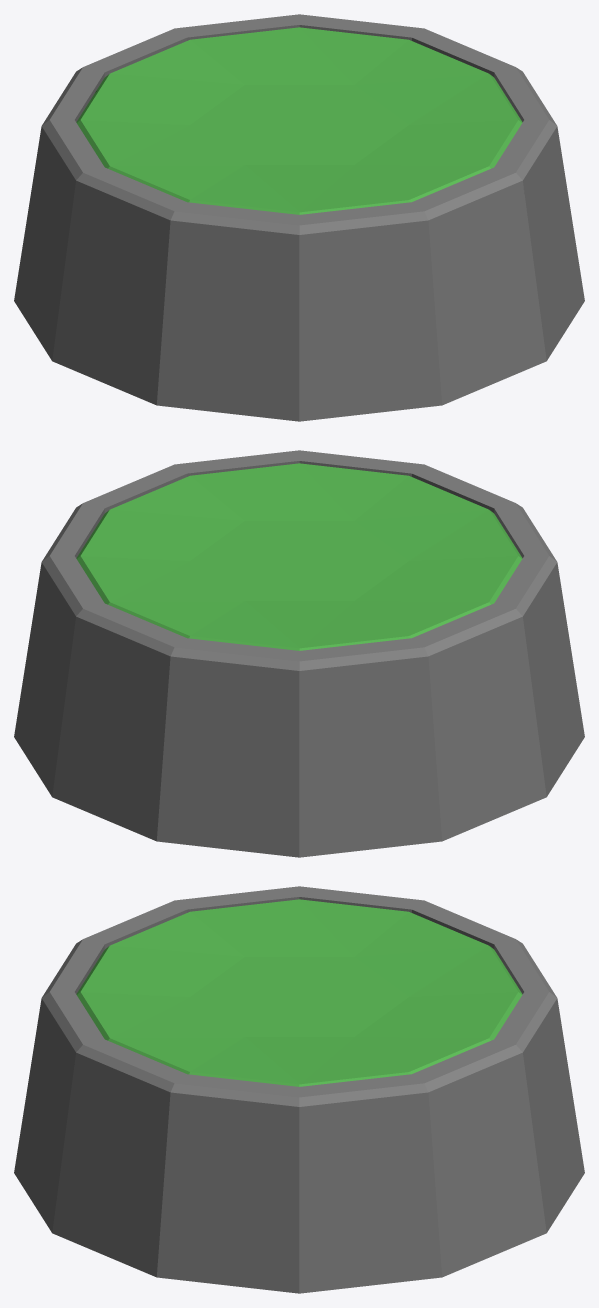
The model's file is PushButton03.dae.
3 views of the same model, one above another, from view 1: azimuth 30°, elevation 25°; view 2: azimuth 150°, elevation 25°; view 3: azimuth 270°, elevation 25° (orthographic).
Parts seen in each view (by area): view 1: PushButton03_Transform; view 2: PushButton03_Transform; view 3: PushButton03_Transform.
Part boxes in pixels (bbox=[...]): PushButton03_Transform: bbox=[14, 14, 584, 421]; PushButton03_Transform: bbox=[14, 450, 584, 857]; PushButton03_Transform: bbox=[14, 886, 584, 1293].
Bounding box in the file's own units: 2 × 2 × 0.7.
Materials: 1 (1 with a texture image).
